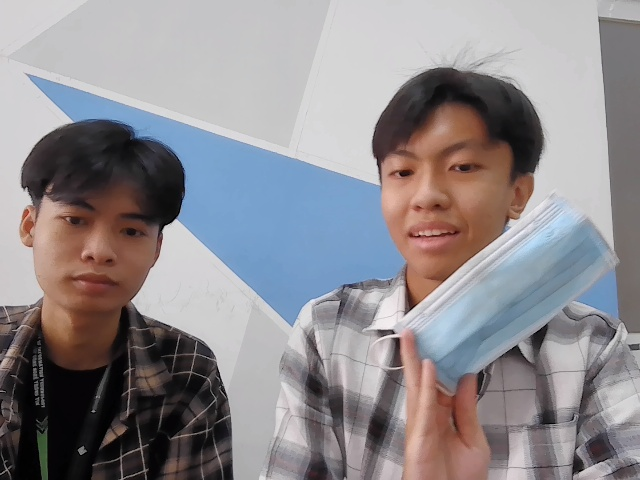human: (379, 66, 542, 285), (20, 117, 188, 319)
mask: (398, 199, 614, 385)
